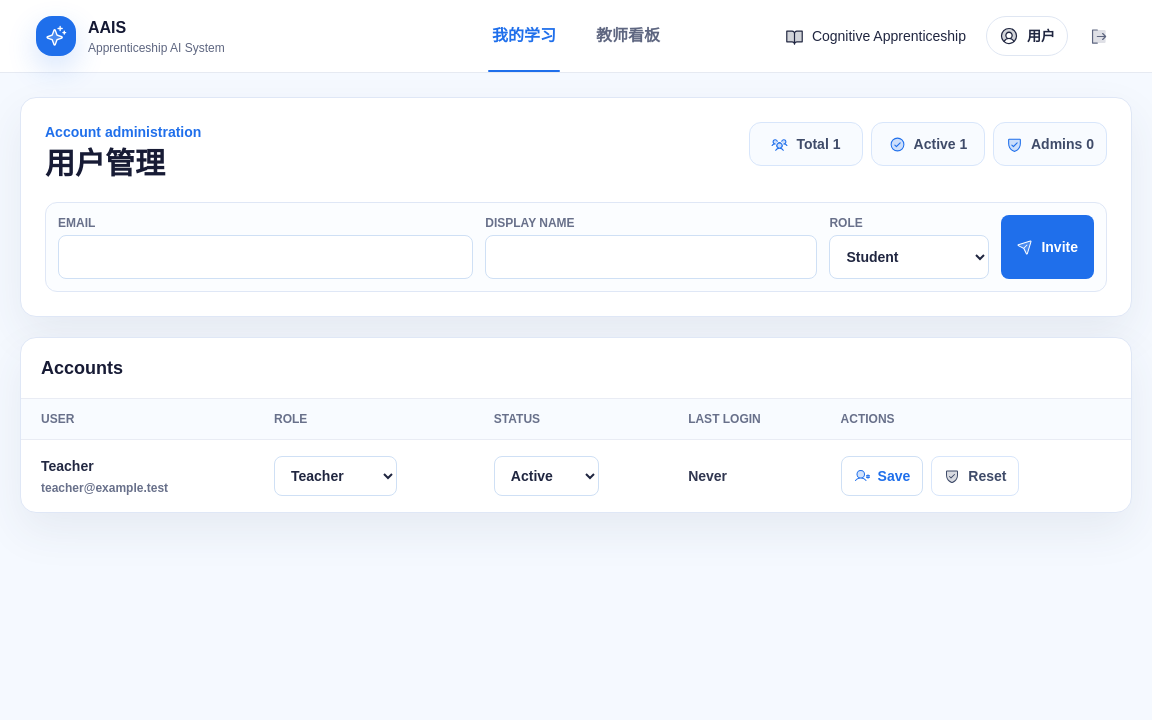
AdminUsersPage › loads users and performs invite, role update, and password reset actions
The image size is (1152, 720).
Expected: the text "teacher@example.test" is shown, [41,481,168,495]
Type "new@example.test" into the field labelled "Email" at (266, 257), box [58,235,473,279]
Type "New Teacher" into the field labelled "Display name" at (651, 257), box [485,235,817,279]
Select "Teacher" in the dropdown labelled "Role" at (909, 257), box [829,235,989,279]
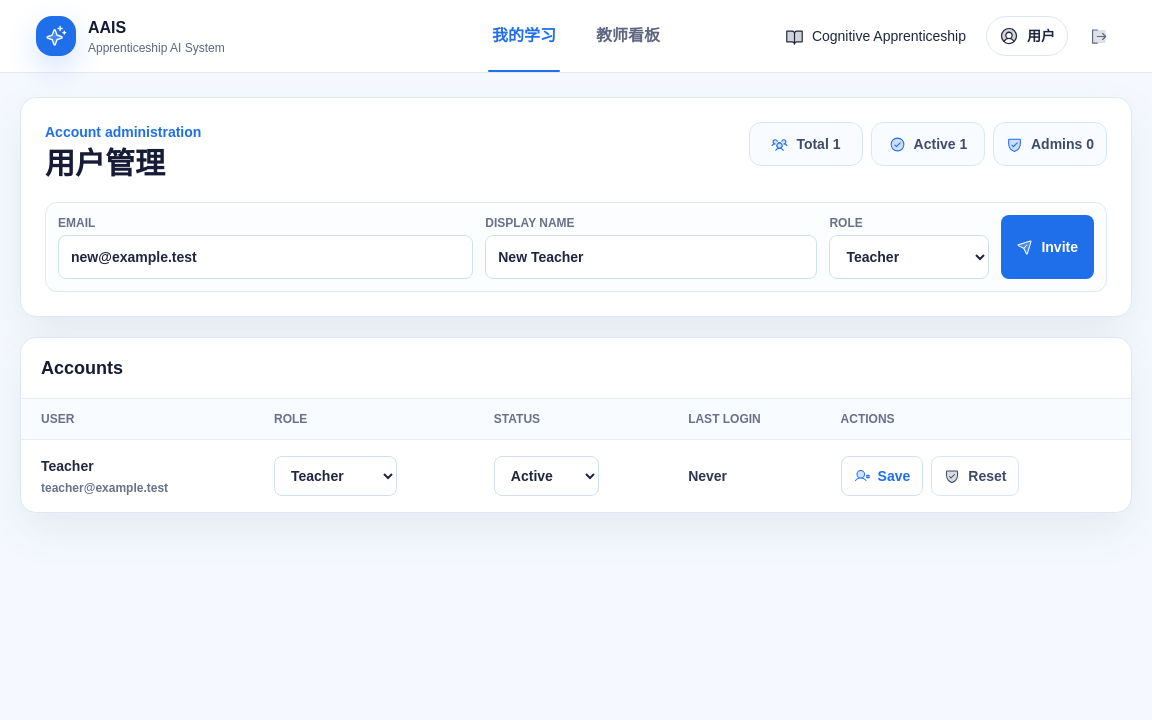
Click the button "Invite" at (1048, 247), box [1001,215,1094,279]
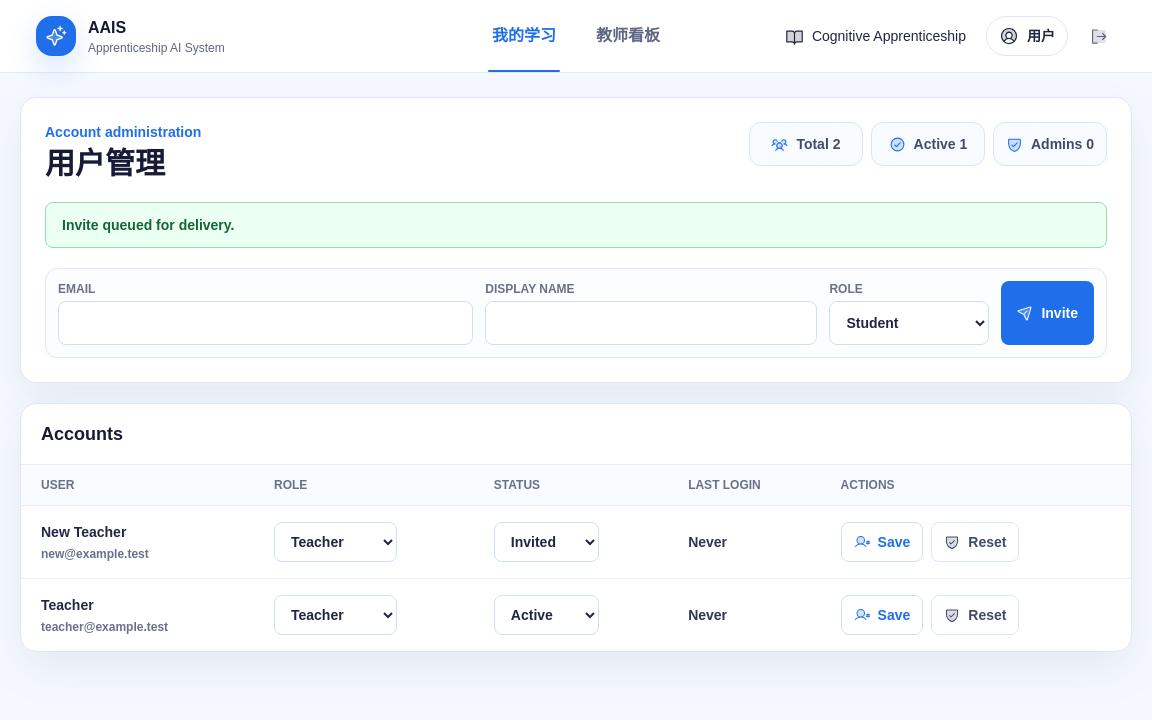
Expected: the text "Invite queued for delivery." is shown, [45,202,1107,248]
Expected: the message reads "Invite queued for delivery.", [62,217,234,233]
Select "Admin" in the dropdown named "Role for teacher@example.test" at (336, 615), box [274,595,397,635]
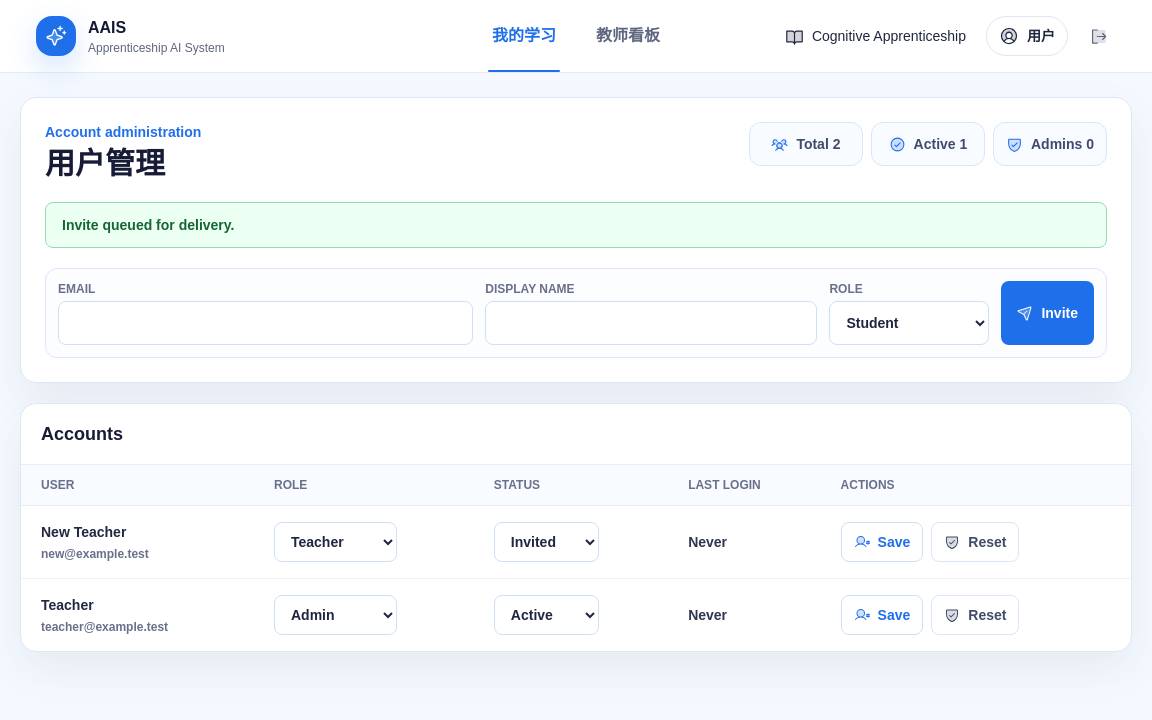
Select "Disabled" in the dropdown named "Status for teacher@example.test" at (546, 615), box [494,595,599,635]
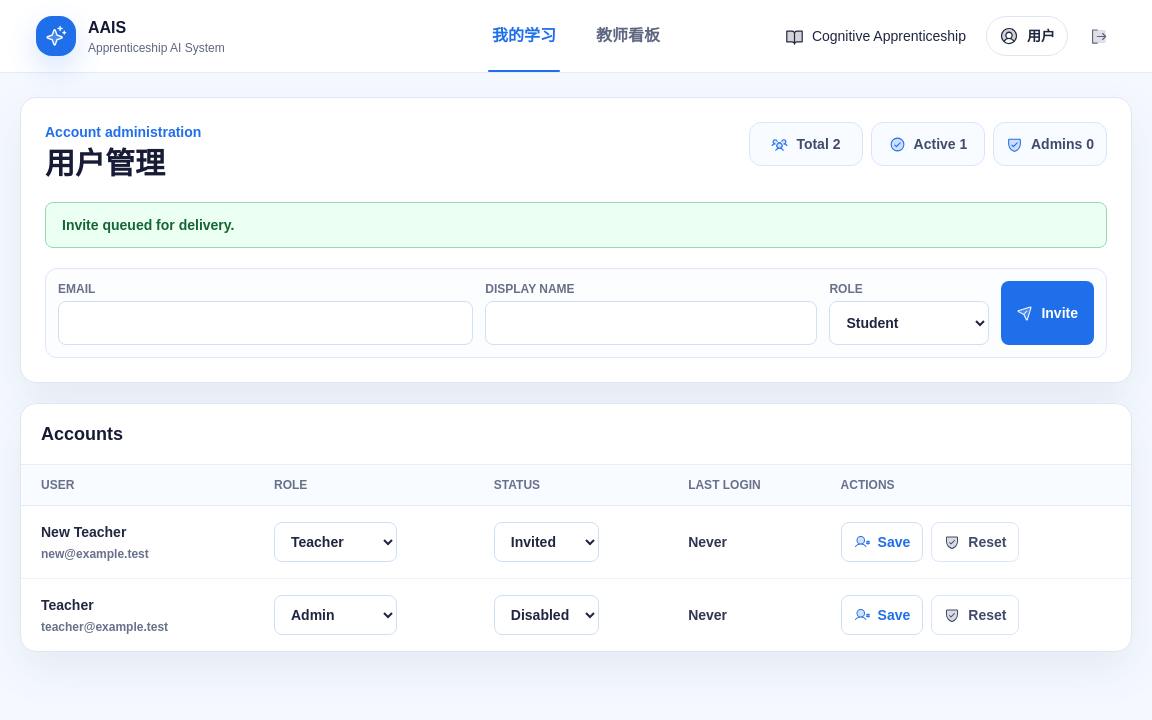
Click the button with aria-label "Save access for teacher@example.test" at (882, 615), box [841,595,923,635]
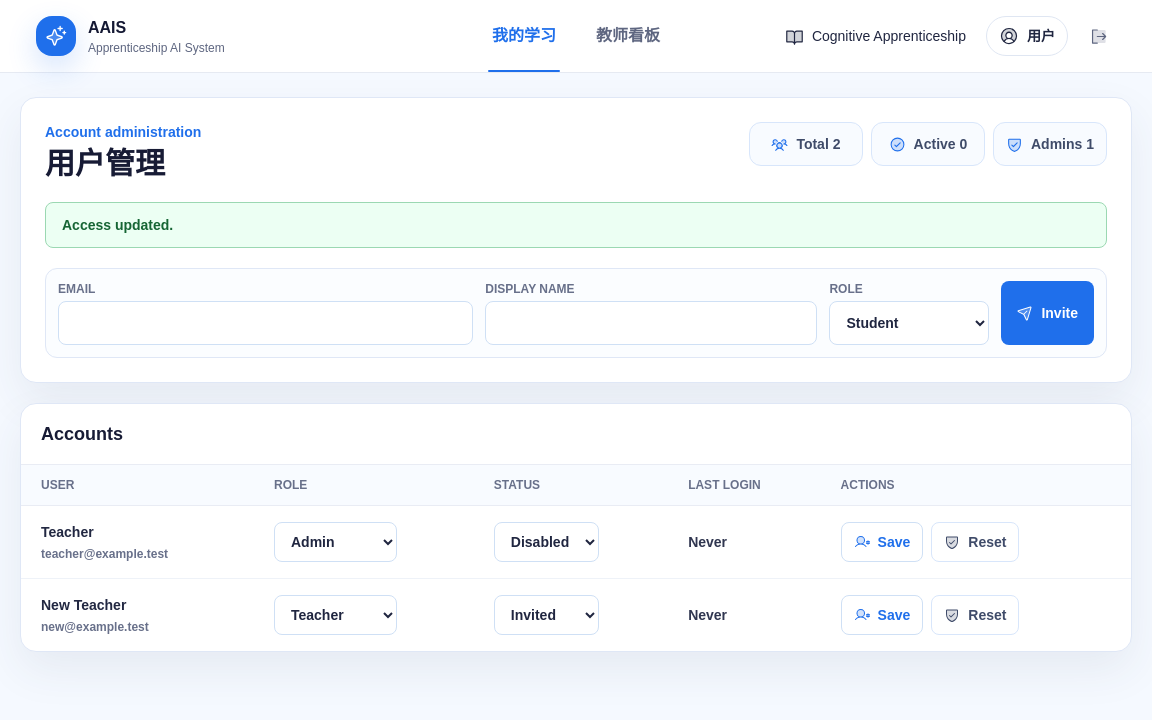
Expected: the text "Access updated." is shown, [45,202,1107,248]
Expected: the message reads "Access updated.", [62,217,173,233]
Click the button with aria-label "Reset password for teacher@example.test" at (975, 542), box [931,522,1019,562]
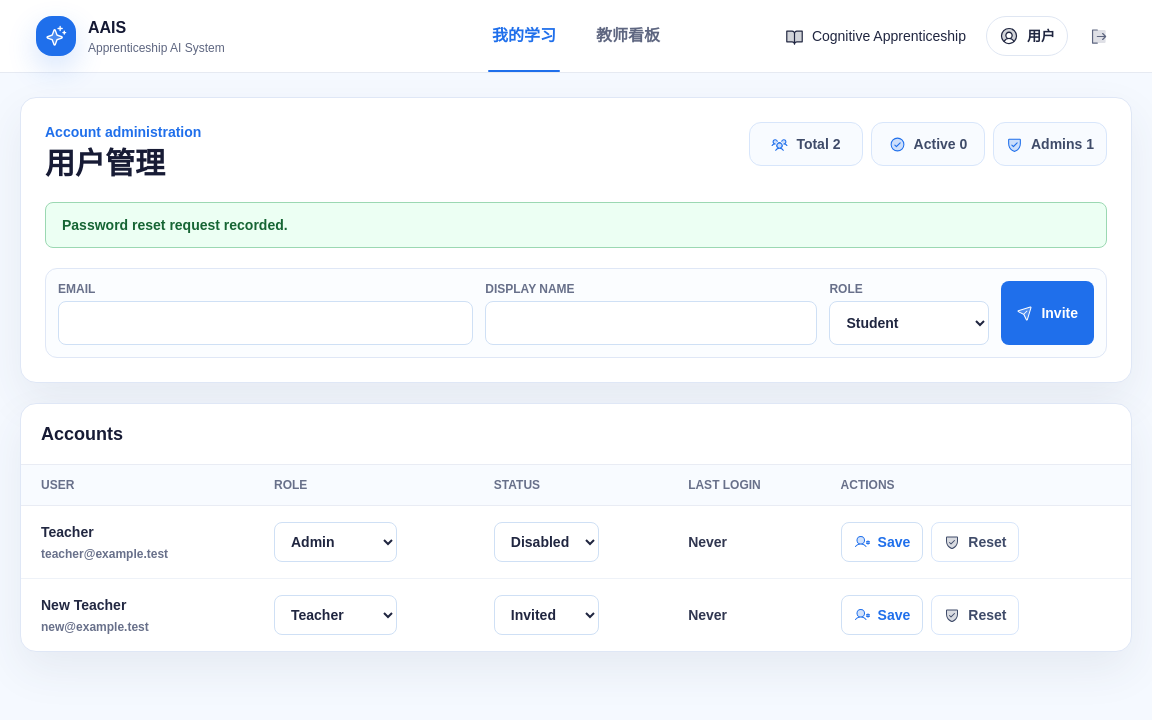
Expected: the text "Password reset request recorded." is shown, [45,202,1107,248]
Expected: the message reads "Password reset request recorded.", [62,217,288,233]
